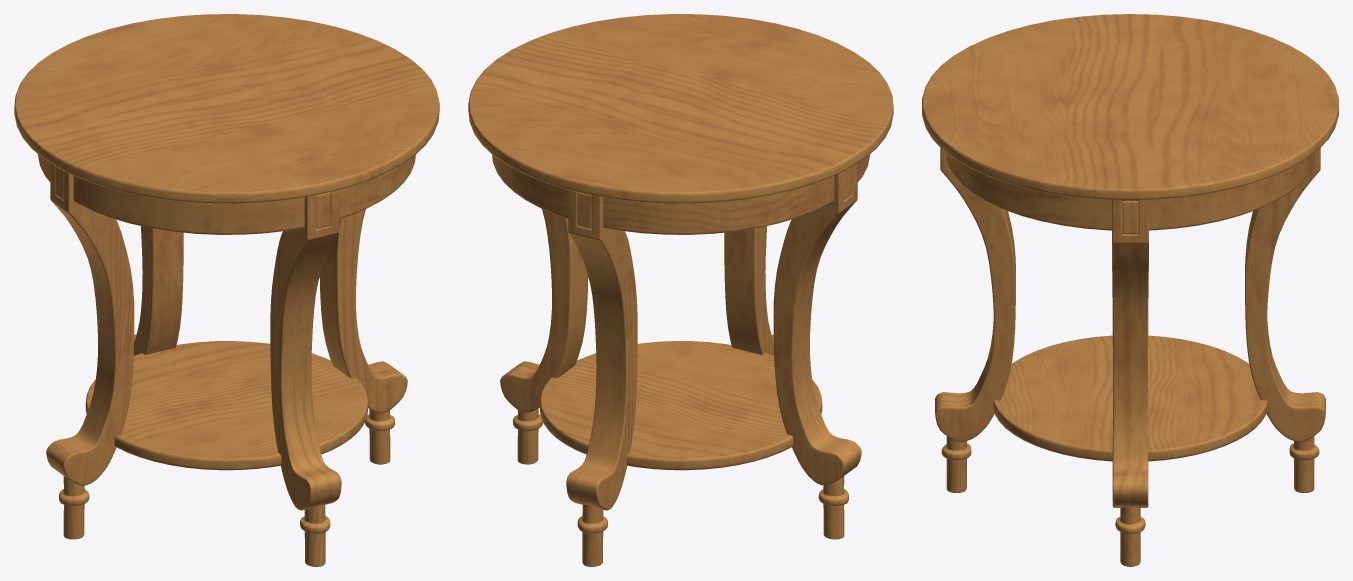
The model's file is abo_B07MF1RP5H.glb.
3 renders of one model, left to right at view 1: azimuth 30°, elevation 25°; view 2: azimuth 150°, elevation 25°; view 3: azimuth 270°, elevation 25°, orthographic.
Visible parts, largest first — view 1: RootNode; view 2: RootNode; view 3: RootNode.
Boxes of the visible parts, box(x1,y1,x2,y2) form: RootNode: box(14, 14, 439, 566); RootNode: box(468, 14, 893, 566); RootNode: box(922, 14, 1338, 566).
Bounding box in the file's own units: 0.597 × 0.6121 × 0.5959.
Materials: 1 (1 with a texture image).
